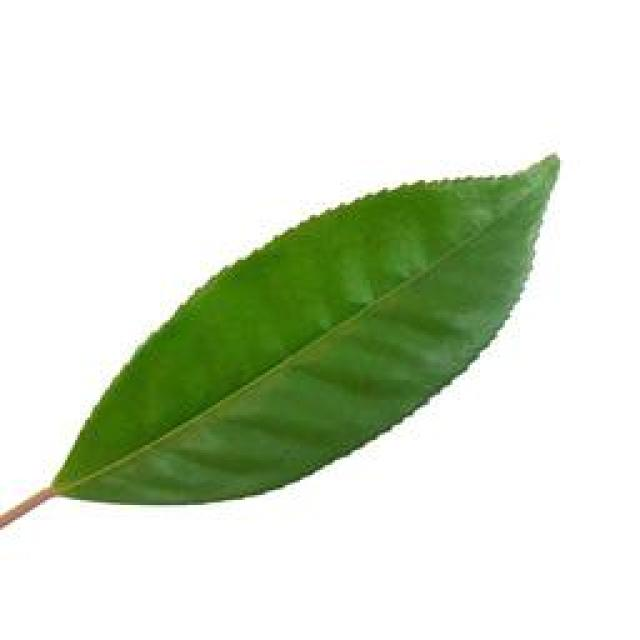Healthy: (49, 148, 580, 512)
